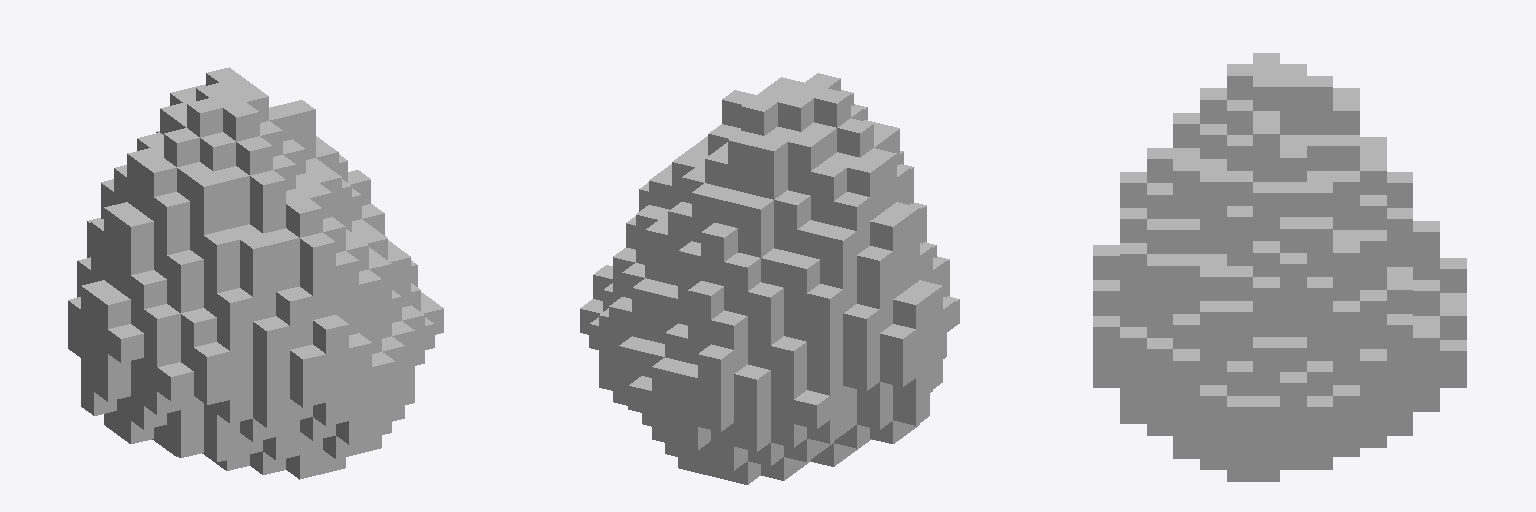
Rendered from GoldMineMesh.obj.
The picture shows the model from 3 angles: view 1: azimuth 30°, elevation 25°; view 2: azimuth 150°, elevation 25°; view 3: azimuth 270°, elevation 25°; orthographic projection.
Parts seen in each view (by area): view 1: object 1; view 2: object 1; view 3: object 1.
Boxes of the visible parts, <box> form: object 1: <box>68,67,443,479</box>; object 1: <box>580,73,959,484</box>; object 1: <box>1093,53,1466,481</box>.
Size of the model in its own units: 1.4 by 1.4 by 1.4.